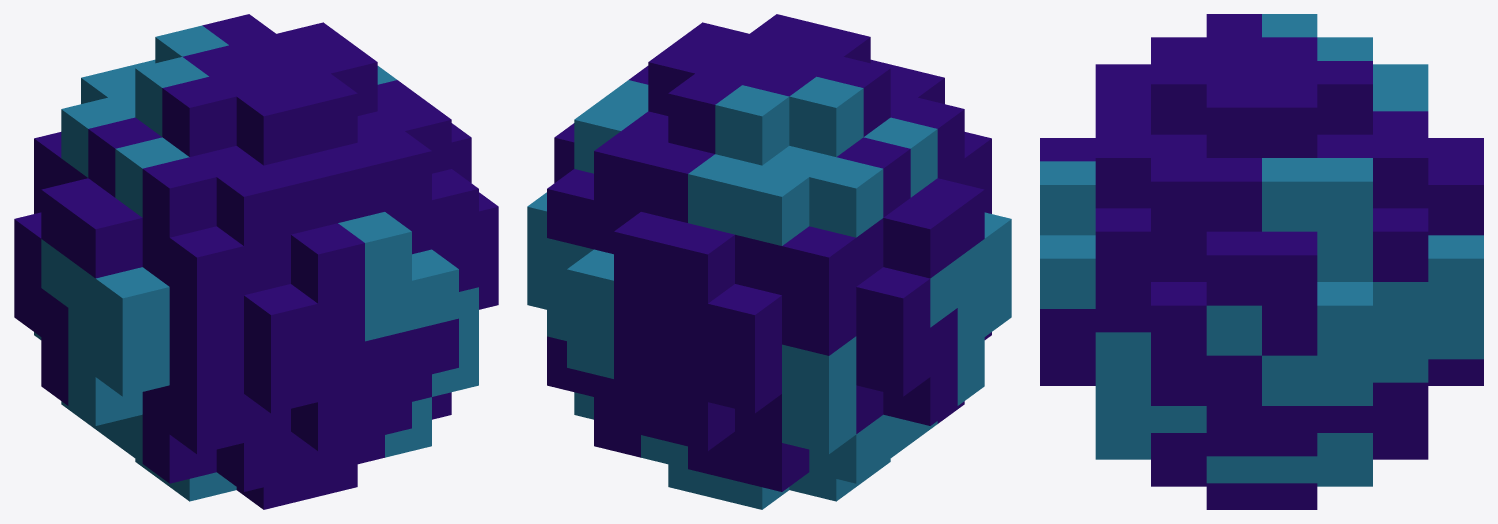
File: planetas-8-azuis.obj
3 views of the same model, side by side, from view 1: azimuth 30°, elevation 25°; view 2: azimuth 150°, elevation 25°; view 3: azimuth 270°, elevation 25° (orthographic). The views are drawn at different scales.
Size of the model in its own units: 0.8 by 0.8 by 0.8.
Materials: 1 (1 with a texture image).
